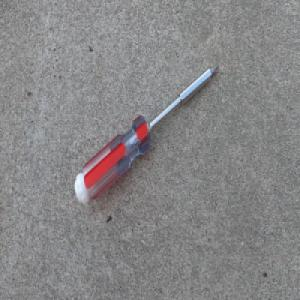Screwdriver: (74, 62, 221, 206)
